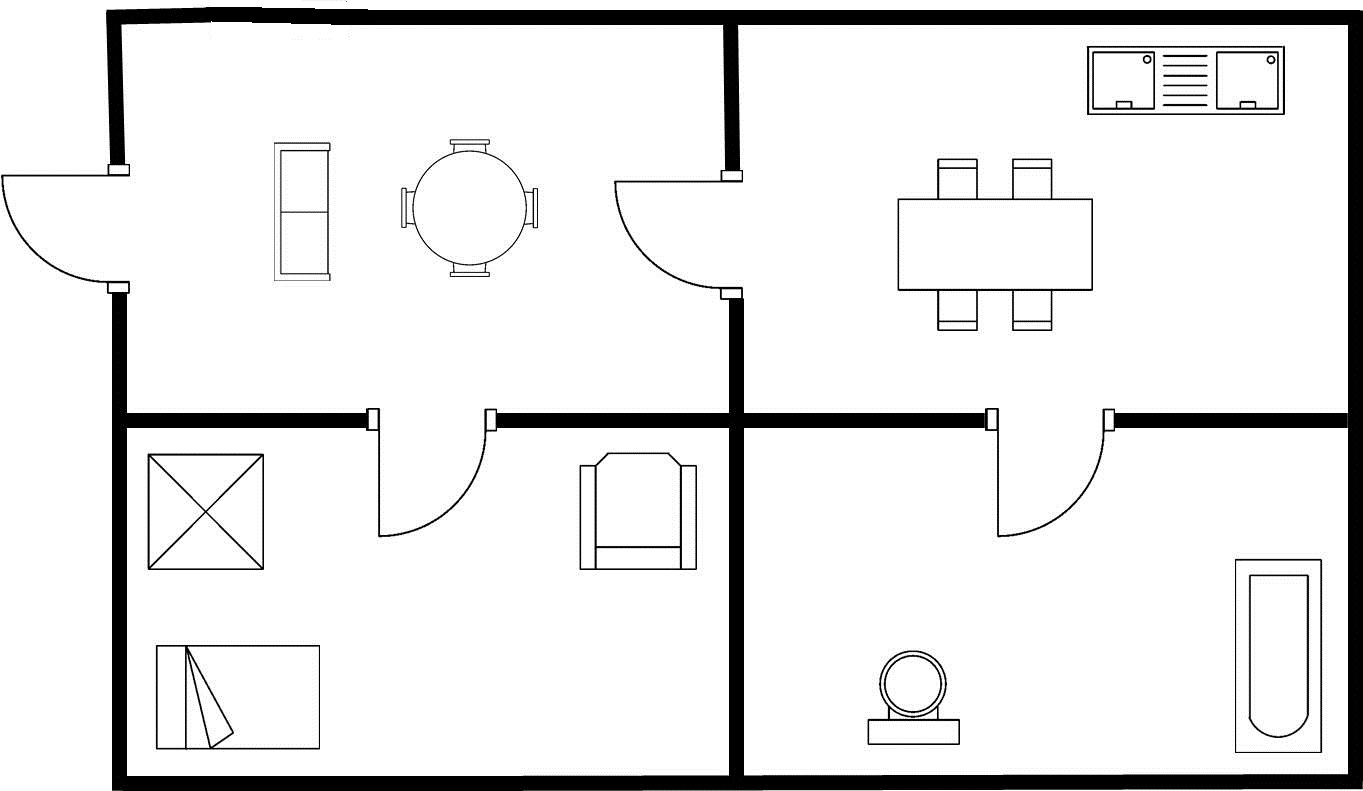armchair: (571, 445, 706, 576)
bed: (150, 640, 326, 756)
coffee_table: (140, 448, 271, 577)
dining_table: (890, 153, 1102, 335)
large_sink: (859, 644, 970, 754)
large_sofa: (268, 136, 336, 288)
round_table: (396, 133, 543, 284)
tub: (1224, 547, 1330, 759)
twin_sink: (1082, 40, 1292, 120)
